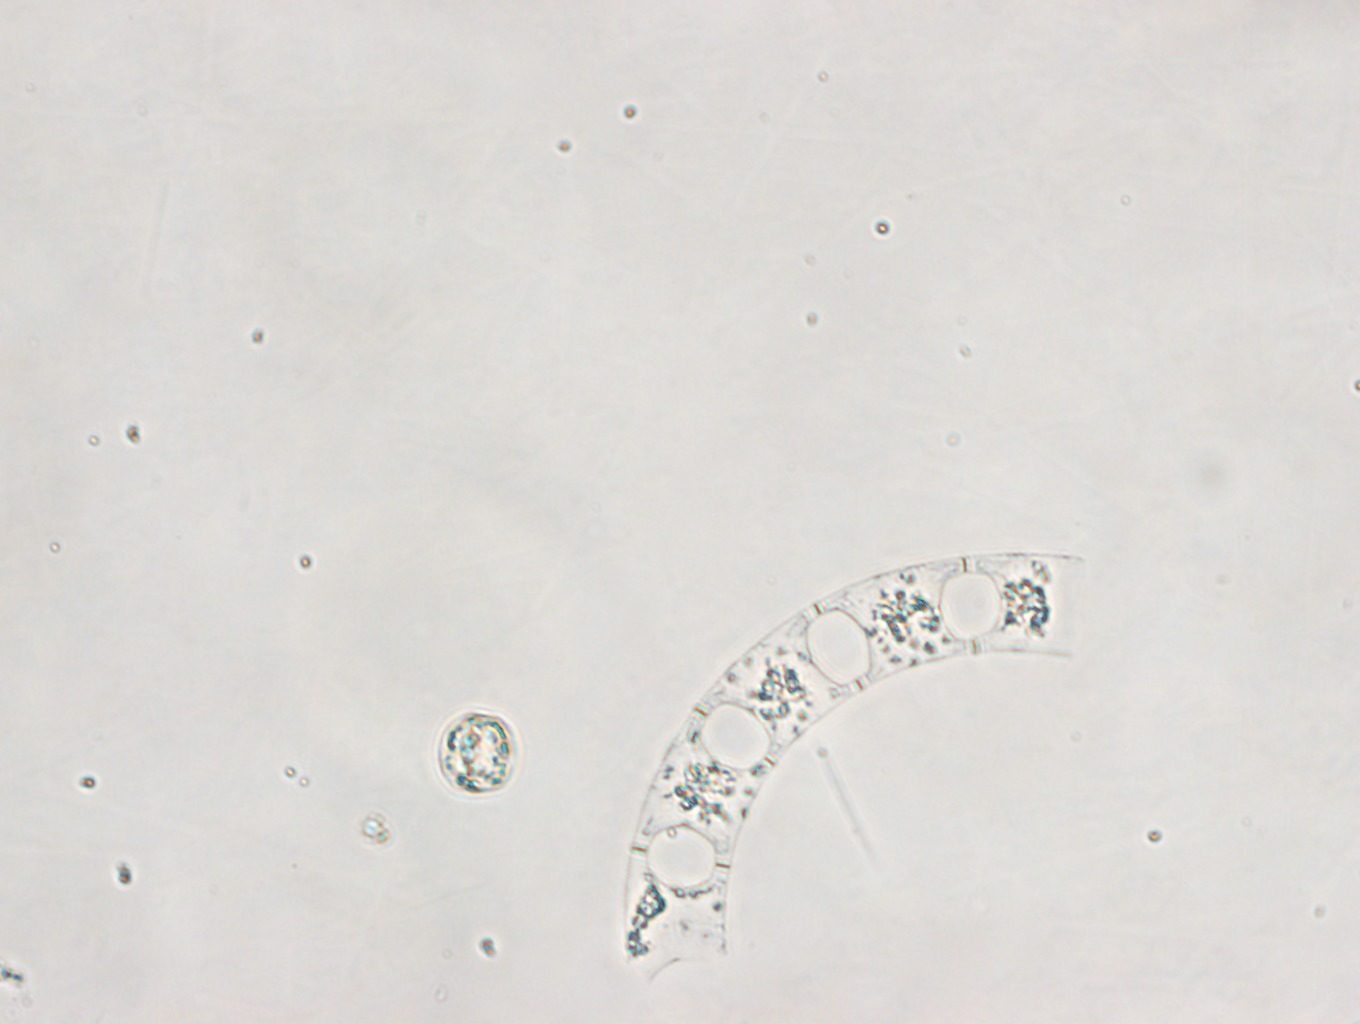eucampia: (620, 552, 1084, 990)
